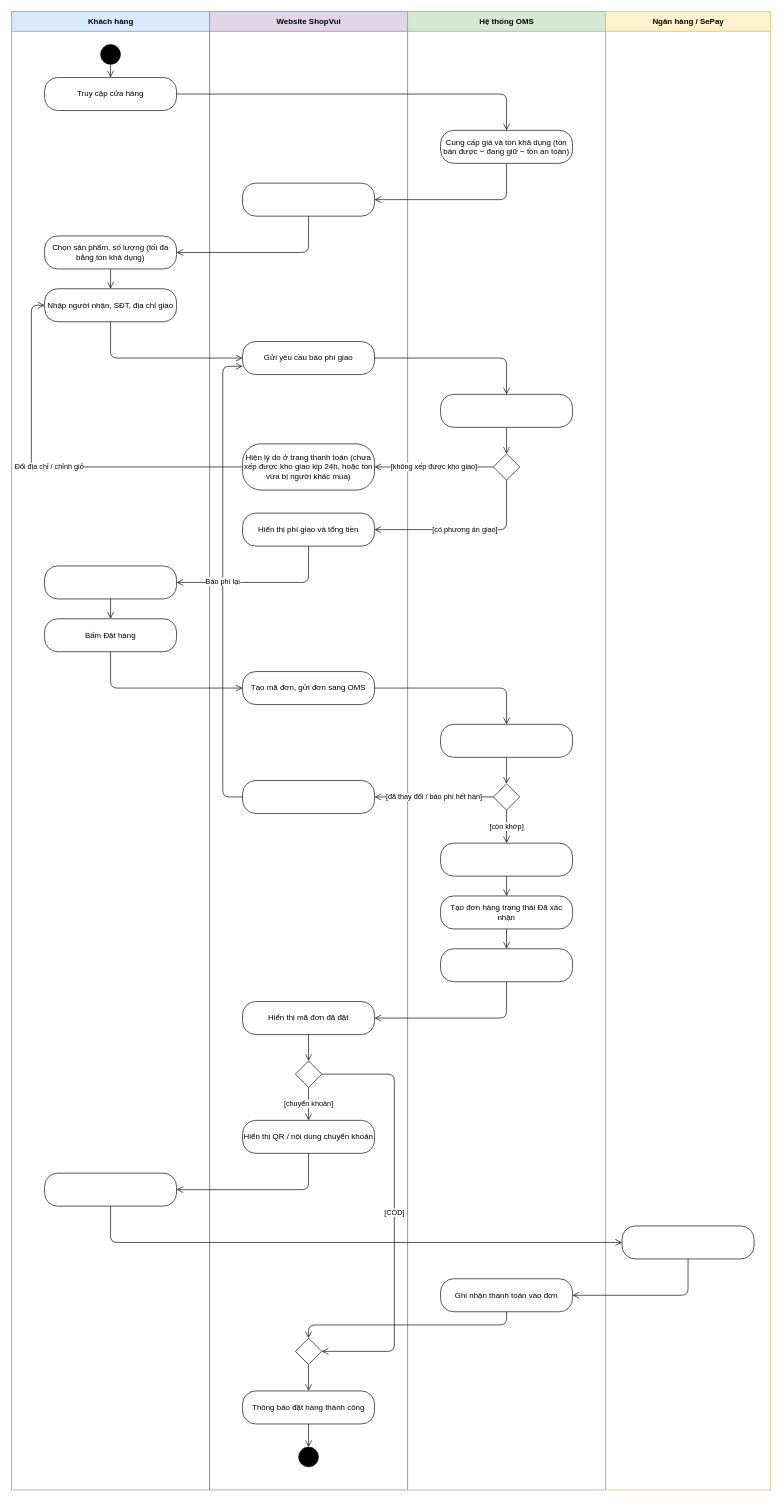
The diagram is 782 pixels wide and 1502 high, and some of its shapes have lost their labels. The shapes that lost their labels are listed below. From the top down, each one's centre as x and y in pixels, then its label:
At point 308,199: "Hiển thị sản phẩm; hết hàng thì khóa không cho mua".
At point 506,410: "Kiểm tồn kho, chọn kho giao đạt hạn 24h, tính phí giao".
At point 110,582: "Chọn thanh toán: COD hoặc chuyển khoản".
At point 506,740: "Khóa tồn, kiểm tra lại tồn kho và phí giao".
At point 308,796: "Báo tồn / phí đã thay đổi".
At point 506,859: "Tạo khách hàng (nếu khách mới)".
At point 506,965: "Giữ hàng tại kho, tạo kiện giao".
At point 110,1189: "Chuyển khoản".
At point 687,1242: "Báo tiền về".
